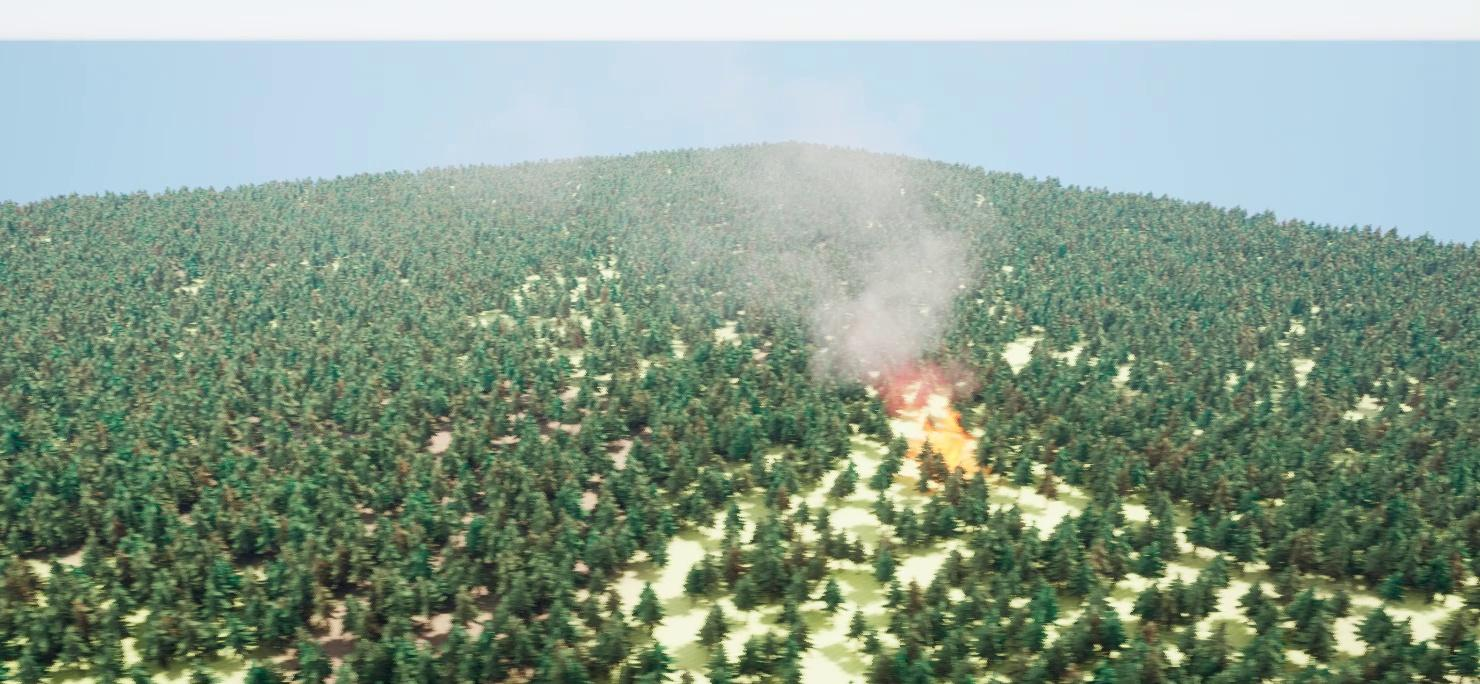fire: (879, 377, 997, 477)
smoke: (490, 46, 994, 377)
